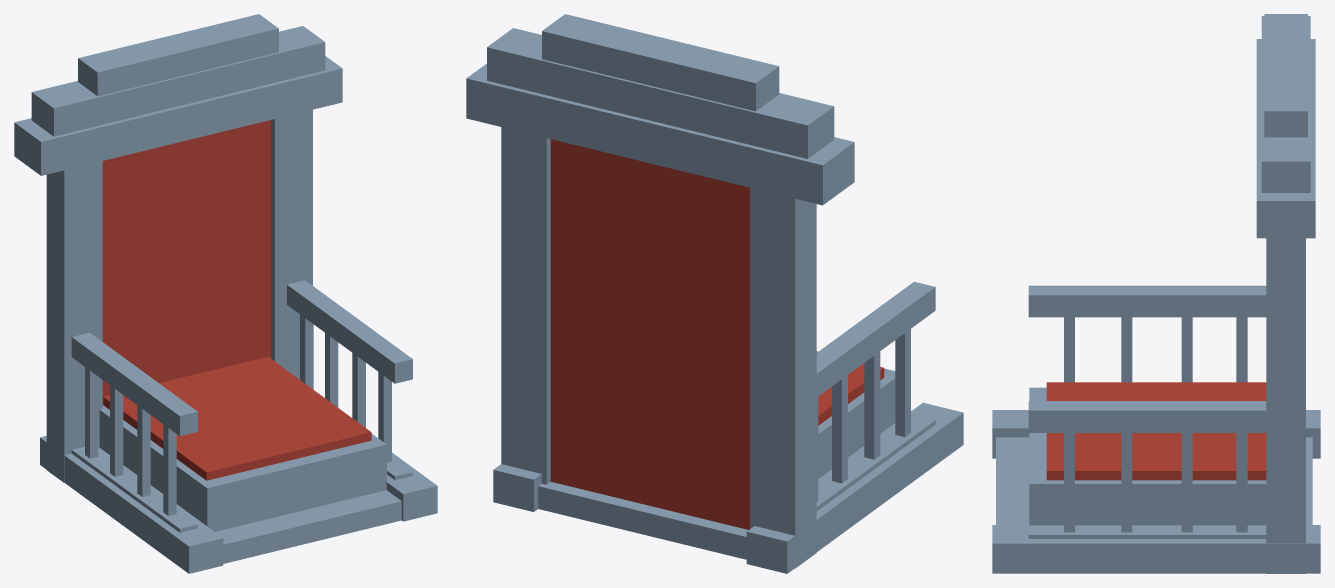
The model's file is Throne.fbx.
3 renders of one model, left to right at view 1: azimuth 30°, elevation 25°; view 2: azimuth 150°, elevation 25°; view 3: azimuth 270°, elevation 25°, orthographic. The views are drawn at different scales.
Parts seen in each view (by area): view 1: Throne_Geo; view 2: Throne_Geo; view 3: Throne_Geo.
Part boxes in pixels (x1,y1,x2,y2): Throne_Geo: (14, 14, 437, 573); Throne_Geo: (466, 14, 963, 573); Throne_Geo: (992, 14, 1320, 573).
Bounding box in the file's own units: 57.19 × 73.1 × 48.99.
